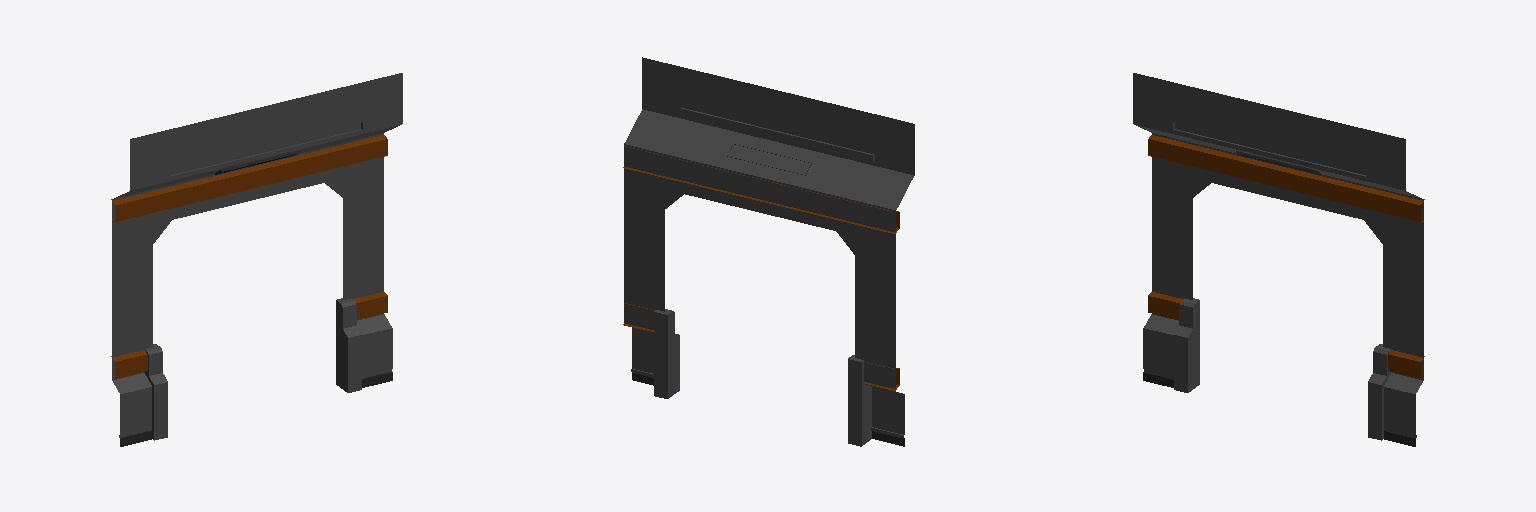
Rendered from DoorDouble_Wall_SideB.obj.
3 views of the same model, side by side, from view 1: azimuth 30°, elevation 25°; view 2: azimuth 150°, elevation 25°; view 3: azimuth 330°, elevation 25° (orthographic).
Parts seen in each view (by area): view 1: DoorDouble_Wall_SideB_Plane.025; view 2: DoorDouble_Wall_SideB_Plane.025; view 3: DoorDouble_Wall_SideB_Plane.025.
Part boxes in pixels (x1,y1,x2,y2): DoorDouble_Wall_SideB_Plane.025: (111, 73, 402, 446); DoorDouble_Wall_SideB_Plane.025: (623, 57, 914, 446); DoorDouble_Wall_SideB_Plane.025: (1133, 73, 1424, 446).
Bounding box in the file's own units: 4 × 4.43 × 0.5307.